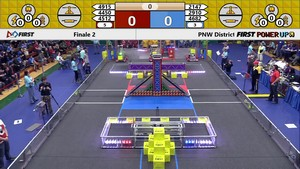cube: (153, 154, 165, 167), (155, 139, 165, 153), (154, 127, 165, 137)
